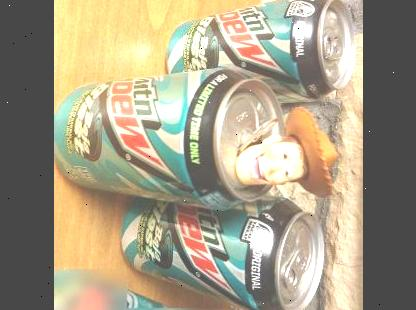Can: (54, 68, 282, 212), (119, 197, 322, 310), (166, 0, 354, 103)
